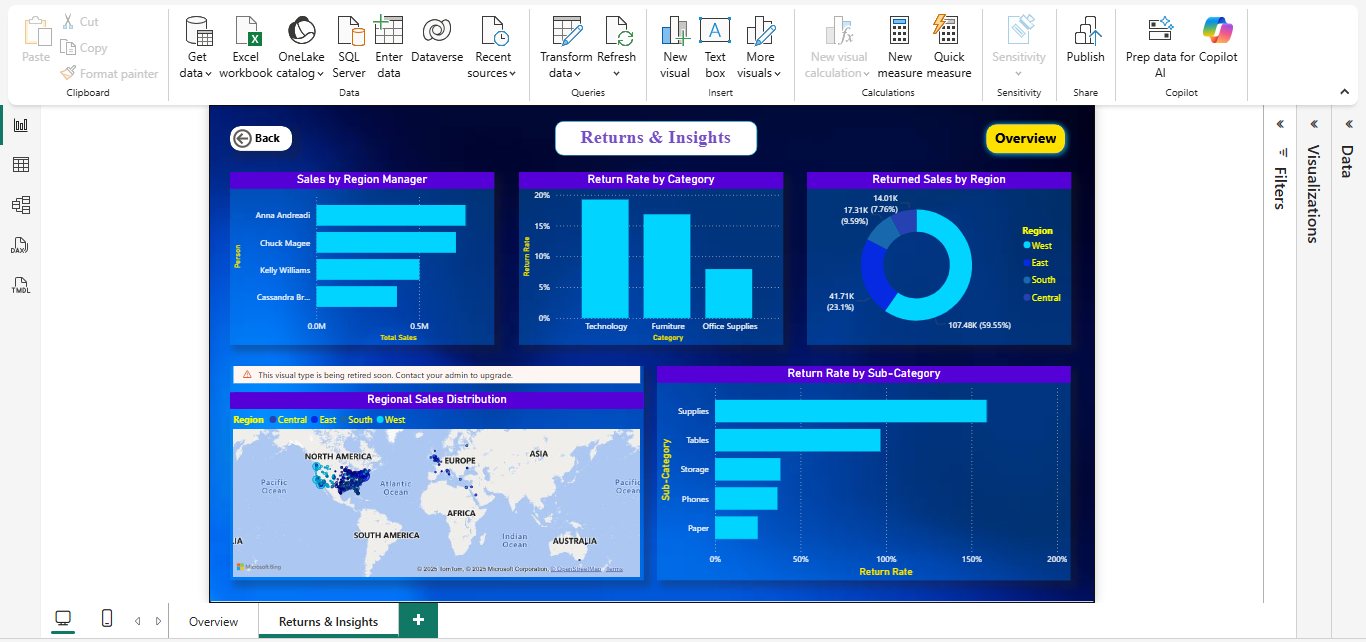

This screenshot's page, from the dashboard's own definition file:
{"tool":"powerbi","page":{"name":"Returns & Insights","canvas":[1280,720],"ordinal":1},"visuals":[{"type":"map","title":"Regional Sales Distribution ","fields":{"Series":["Orders.Region"],"Size":["Orders.Total Sales"],"Category":["Orders.City","Orders.State"]},"box":[30,376.7,598.3,310],"z":0},{"type":"clusteredBarChart","title":"Sales by Region Manager ","fields":{"Category":["People.Person"],"Y":["Orders.Total Sales"]},"box":[30,96.7,381.7,250],"z":1000},{"type":"clusteredColumnChart","fields":{"Category":["Orders.Category"],"Y":["Orders.Return Rate"]},"box":[448.3,96.7,381.7,250],"z":2000},{"type":"donutChart","fields":{"Category":["Orders.Region"],"Y":["Orders.Returned Sales"]},"box":[865,96.7,381.7,250],"z":3000},{"type":"clusteredBarChart","fields":{"Category":["Orders.Sub-Category"],"Y":["Orders.Return Rate"]},"box":[648.3,376.7,598.3,310],"z":4000},{"type":"actionButton","box":[30,30,90,36.2],"z":5000},{"type":"shape","box":[500,23.8,292.5,50],"z":6000},{"type":"textbox","box":[527.5,26.2,236.2,45],"z":7000},{"type":"pageNavigator","box":[1114.3,18.6,132.9,60],"z":8000}]}

Visuals, with their boxes on the page's 1280x720 design canvas (x1, y1, x2, y2). These are canvas units, not pixel positions in the 1366x642 screenshot, which may show the page scaled, cropped or inside an application window:
"Regional Sales Distribution " map: region(30, 377, 628, 687)
"Sales by Region Manager " clusteredBarChart: region(30, 97, 412, 347)
clusteredColumnChart - Orders.Category x Orders.Return Rate: region(448, 97, 830, 347)
donutChart - Orders.Region x Orders.Returned Sales: region(865, 97, 1247, 347)
clusteredBarChart - Orders.Sub-Category x Orders.Return Rate: region(648, 377, 1247, 687)
actionButton: region(30, 30, 120, 66)
shape: region(500, 24, 792, 74)
textbox: region(528, 26, 764, 71)
pageNavigator: region(1114, 19, 1247, 79)
